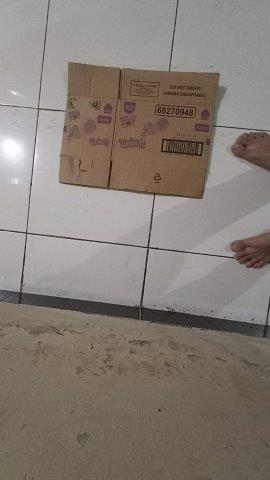kardus: (60, 63, 218, 197)
